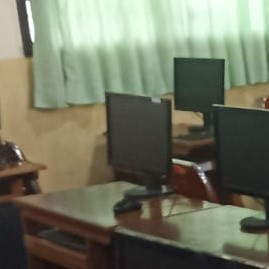monitor: (211, 104, 269, 228), (104, 91, 173, 195), (173, 57, 225, 113)
